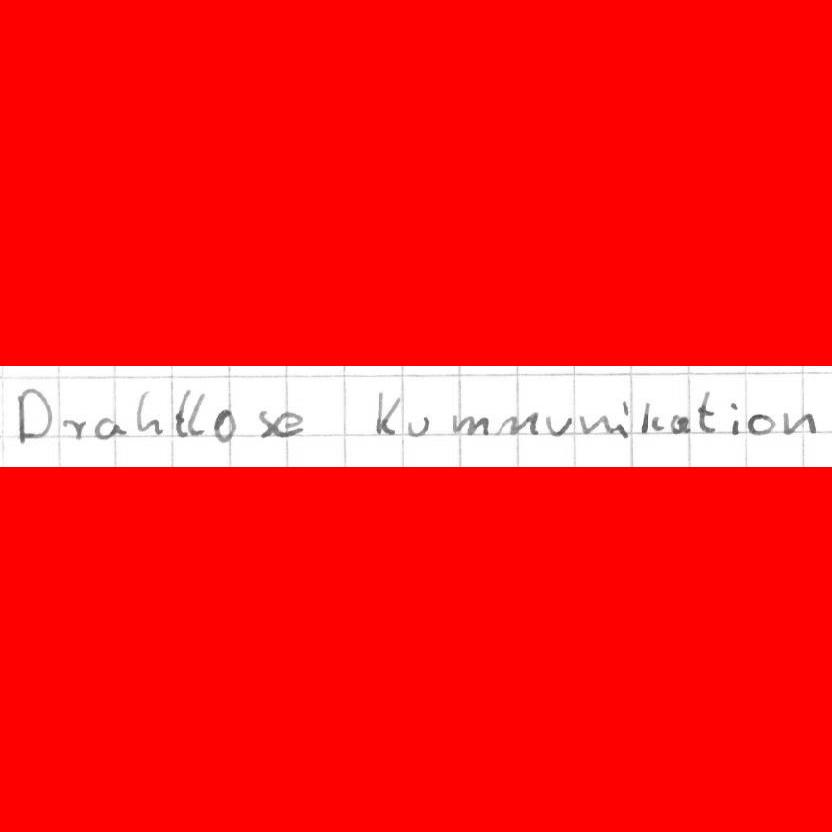Char: (15, 386, 52, 441), (372, 387, 401, 438), (134, 387, 164, 435), (496, 409, 537, 436), (580, 409, 621, 436), (172, 386, 191, 438), (695, 389, 717, 432), (452, 412, 491, 436), (188, 390, 208, 436), (212, 407, 237, 443), (782, 408, 814, 436), (275, 409, 304, 438), (639, 402, 663, 436), (94, 414, 125, 439), (254, 406, 275, 441), (746, 412, 775, 436), (63, 413, 89, 438), (547, 415, 574, 437), (407, 414, 430, 438), (727, 399, 741, 436), (618, 398, 631, 437), (670, 411, 691, 435)
